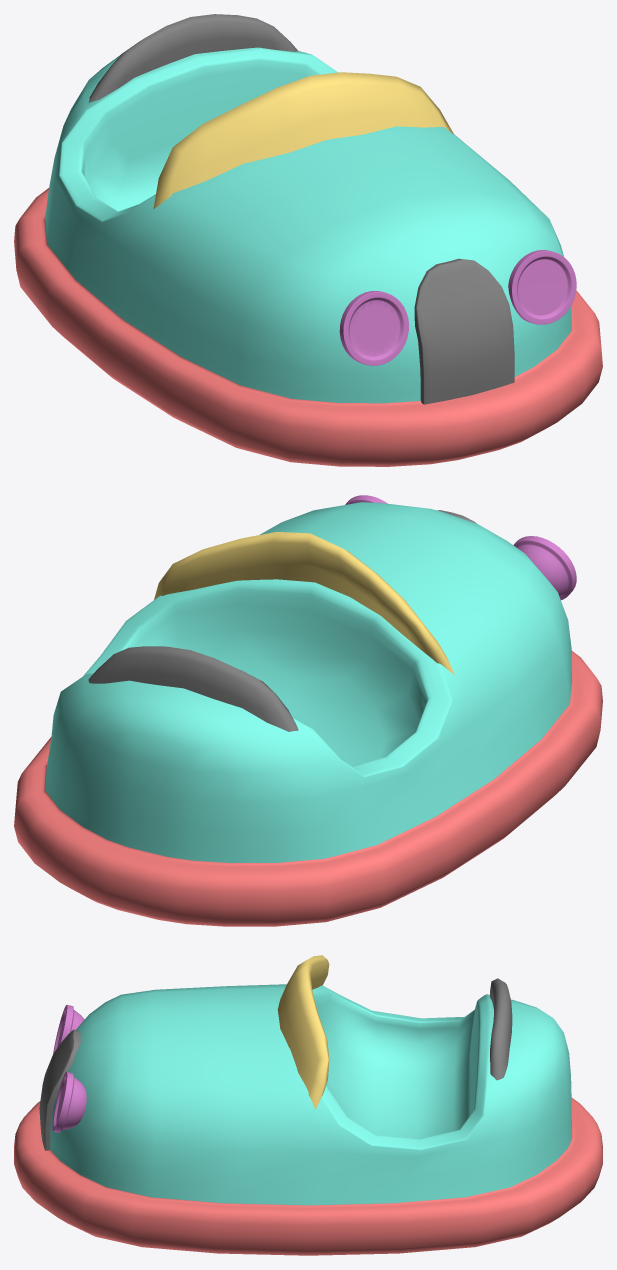
The model's file is Car.fbx.
The picture shows the model from 3 angles, top to bottom: view 1: azimuth 30°, elevation 25°; view 2: azimuth 150°, elevation 25°; view 3: azimuth 270°, elevation 25°; orthographic projection. The views are drawn at different scales.
Visible parts, largest first — view 1: Car; view 2: Car; view 3: Car.
Part boxes in pixels (box(x1,y1,x2,y2)): Car: box(14, 14, 602, 466); Car: box(14, 495, 602, 926); Car: box(14, 955, 602, 1255).
Bounding box in the file's own units: 49.54 × 30.14 × 74.5.
